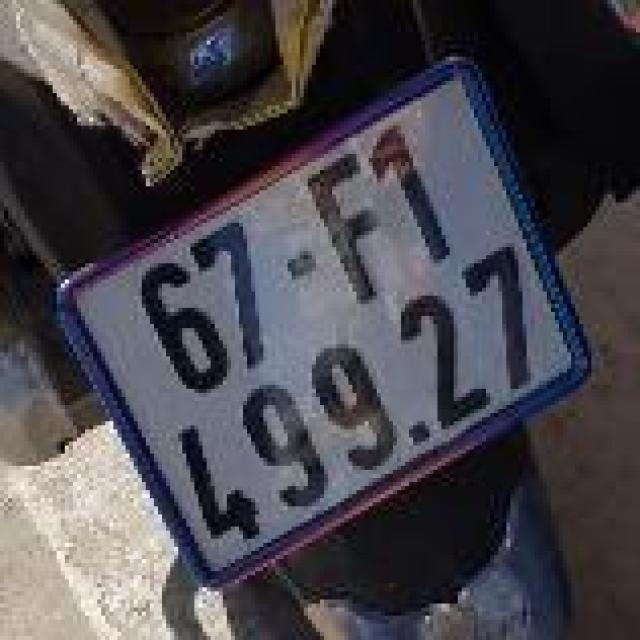1: (352, 110, 475, 280)
2: (382, 278, 507, 446)
4: (159, 403, 282, 565)
6: (117, 243, 247, 405)
7: (185, 208, 302, 383), (452, 238, 569, 409)
9: (301, 326, 420, 490), (229, 368, 343, 527)
F: (286, 140, 416, 315)
